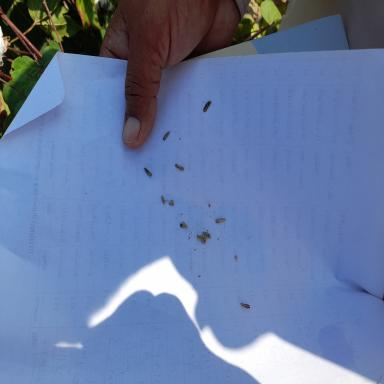pbw: (202, 100, 212, 113), (162, 130, 170, 140), (144, 167, 152, 176), (215, 217, 226, 223), (175, 164, 184, 170), (182, 221, 188, 228)
